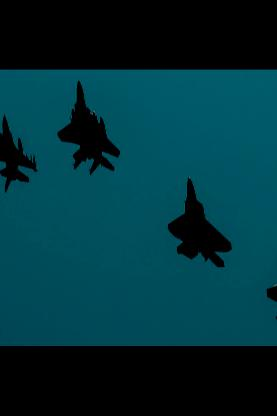F117: (56, 79, 119, 176)
F14: (0, 113, 37, 195)
F18: (166, 176, 230, 268)
F22: (264, 250, 275, 331)
